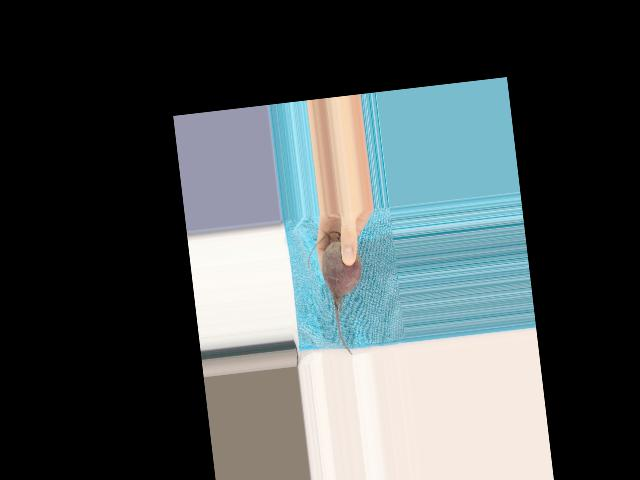beet: (305, 229, 372, 359)
